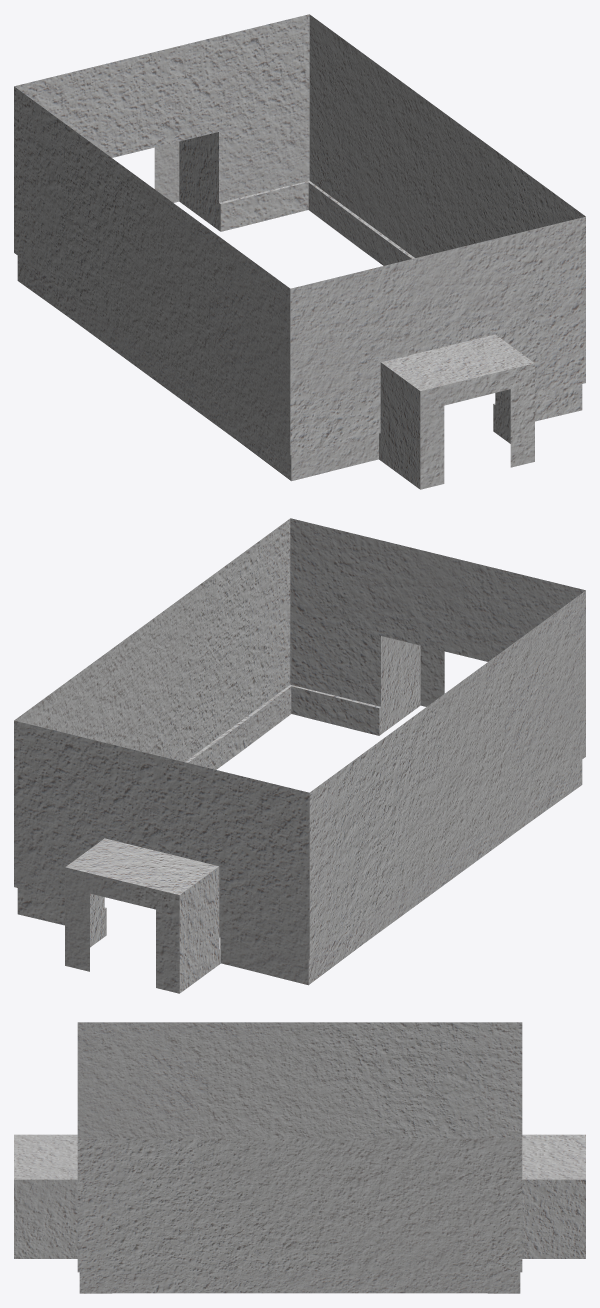
Rendered from Museum Wall.fbx.
The picture shows the model from 3 angles, top to bottom: view 1: azimuth 30°, elevation 25°; view 2: azimuth 150°, elevation 25°; view 3: azimuth 270°, elevation 25°; orthographic projection. The views are drawn at different scales.
Parts seen in each view (by area): view 1: hall1_walls; view 2: hall1_walls; view 3: hall1_walls.
Part boxes in pixels (bbox=[...]): hall1_walls: bbox=[14, 14, 585, 489]; hall1_walls: bbox=[14, 518, 585, 993]; hall1_walls: bbox=[14, 1022, 585, 1293].
Size of the model in its own units: 1000 by 628 by 2084.
